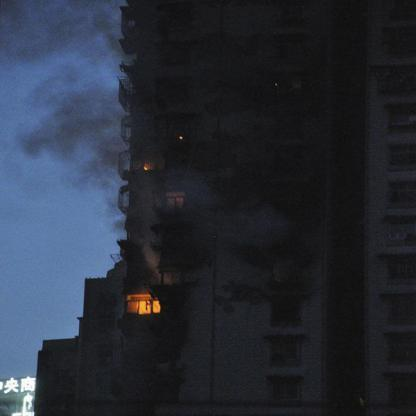fire: (138, 300, 150, 314), (152, 299, 161, 313)
